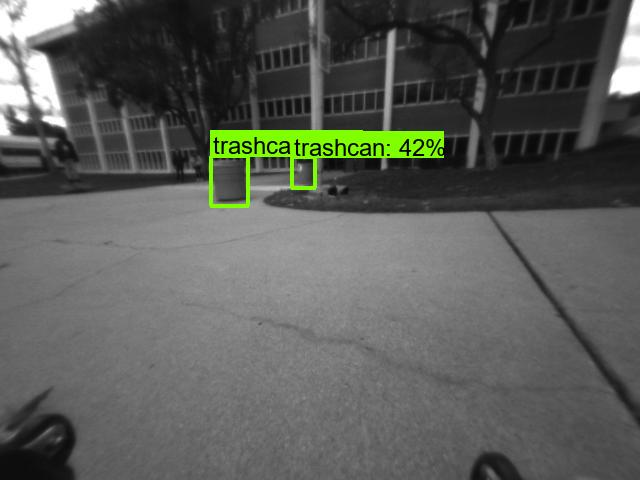trashcan: (211, 158, 252, 204), (298, 161, 316, 183)
